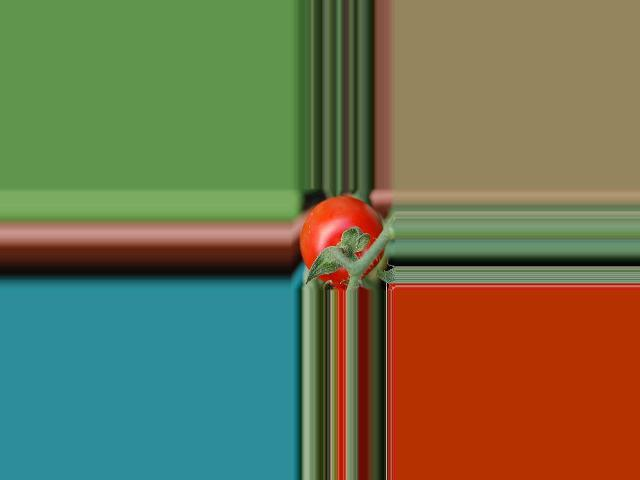tomato: (299, 196, 385, 288)
